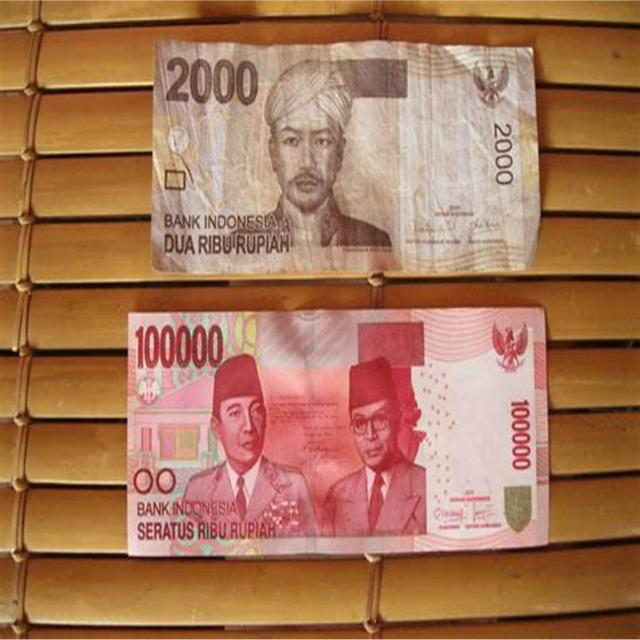dua ribu rupiah: (155, 38, 537, 268)
seratus ribu rupiah: (127, 311, 549, 547)
